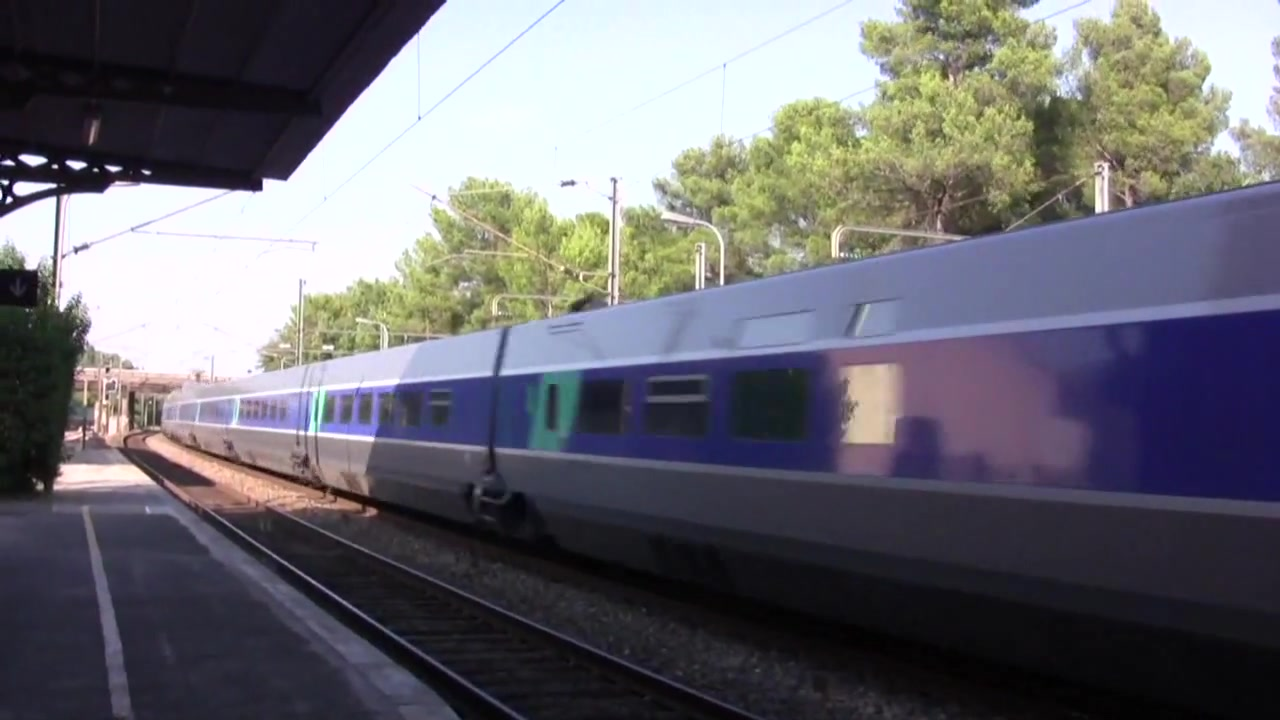train: (158, 183, 1280, 645)
